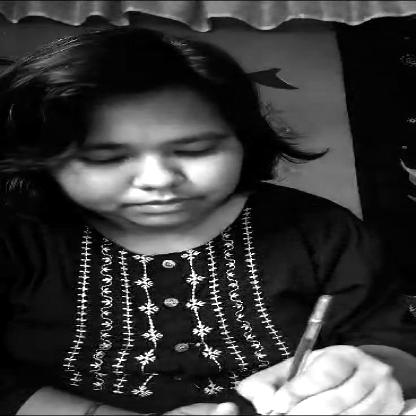Normal: (40, 86, 258, 229)
